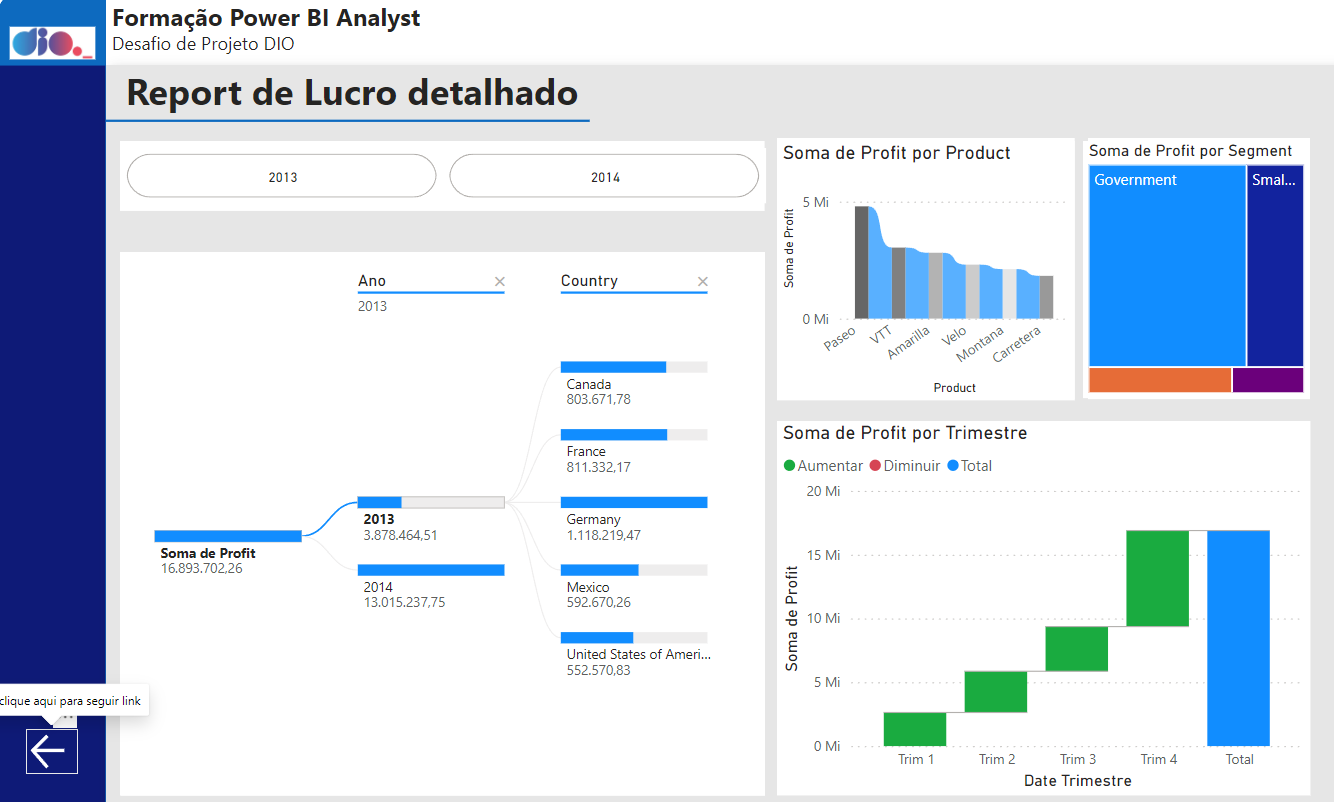

This screenshot's page, from the dashboard's own definition file:
{"tool":"powerbi","page":{"name":"Página 2","canvas":[1280,720],"ordinal":1},"visuals":[{"type":"shape","box":[0,0,96.1,720.4],"z":0},{"type":"shape","box":[0,0,96.1,63.7],"z":1000},{"type":"textbox","box":[310.5,603.1,38,117.3],"z":2000},{"type":"textbox","box":[96.1,0,1120.3,63.7],"z":3000},{"type":"shape","box":[95.8,63.2,1090.5,656.8],"z":4000},{"type":"shape","box":[96.1,93.8,428.9,36.9],"z":5000},{"type":"textbox","box":[108.3,58.1,442.3,72.6],"z":6000},{"type":"shape","box":[108.4,130.5,571.6,62.1],"z":7000},{"type":"advancedSlicerVisual","fields":{"Values":["financials (2).Date.Variation.Hierarquia de datas.Ano"]},"box":[109.5,136.8,571.6,49.5],"z":8000},{"type":"shape","box":[108.4,228.4,571.6,482.1],"z":9000},{"type":"actionButton","box":[25.3,651.6,45.3,40],"z":10000},{"type":"shape","box":[690.5,127.4,264.2,232.6],"z":11000},{"type":"shape","box":[966.3,127.4,196.8,231.6],"z":12000},{"type":"ribbonChart","fields":{"Y":["Sum(financials (2).Profit)"],"Category":["financials (2).Product"]},"box":[690.5,130.5,264.2,229.5],"z":13000},{"type":"treemap","fields":{"Group":["financials (2).Segment"],"Values":["Sum(financials (2).Profit)"]},"box":[962.1,130.5,201.1,228.4],"z":14000},{"type":"decompositionTreeVisual","fields":{"ExplainBy":["financials (2).Date.Variation.Hierarquia de datas.Ano","financials (2).Country"],"Analyze":["Sum(financials (2).Profit)"]},"box":[109.5,228.4,570.5,482.1],"z":15000},{"type":"image","box":[5.3,0,86.3,86.3],"z":16000},{"type":"waterfallChart","fields":{"Y":["Sum(financials (2).Profit)"],"Category":["financials (2).Date.Variation.Hierarquia de datas.Trimestre"]},"box":[690.5,378.9,472.6,331.6],"z":17000}]}

Visuals, with their boxes on the page's 1280x720 design canvas (x1, y1, x2, y2). These are canvas units, not pixel positions in the 1334x804 screenshot, which may show the page scaled, cropped or inside an application window:
shape: locate(0, 0, 96, 720)
shape: locate(0, 0, 96, 64)
textbox: locate(310, 603, 348, 720)
textbox: locate(96, 0, 1216, 64)
shape: locate(96, 63, 1186, 720)
shape: locate(96, 94, 525, 131)
textbox: locate(108, 58, 551, 131)
shape: locate(108, 130, 680, 193)
advancedSlicerVisual - financials (2).Date.Variation.Hierarquia de datas.Ano: locate(110, 137, 681, 186)
shape: locate(108, 228, 680, 710)
actionButton: locate(25, 652, 71, 692)
shape: locate(690, 127, 955, 360)
shape: locate(966, 127, 1163, 359)
ribbonChart - Sum(financials (2).Profit) x financials (2).Product: locate(690, 130, 955, 360)
treemap - financials (2).Segment x Sum(financials (2).Profit): locate(962, 130, 1163, 359)
decompositionTreeVisual - financials (2).Date.Variation.Hierarquia de datas.Ano x financials (2).Country: locate(110, 228, 680, 710)
image: locate(5, 0, 92, 86)
waterfallChart - Sum(financials (2).Profit) x financials (2).Date.Variation.Hierarquia de datas.Trimestre: locate(690, 379, 1163, 710)
